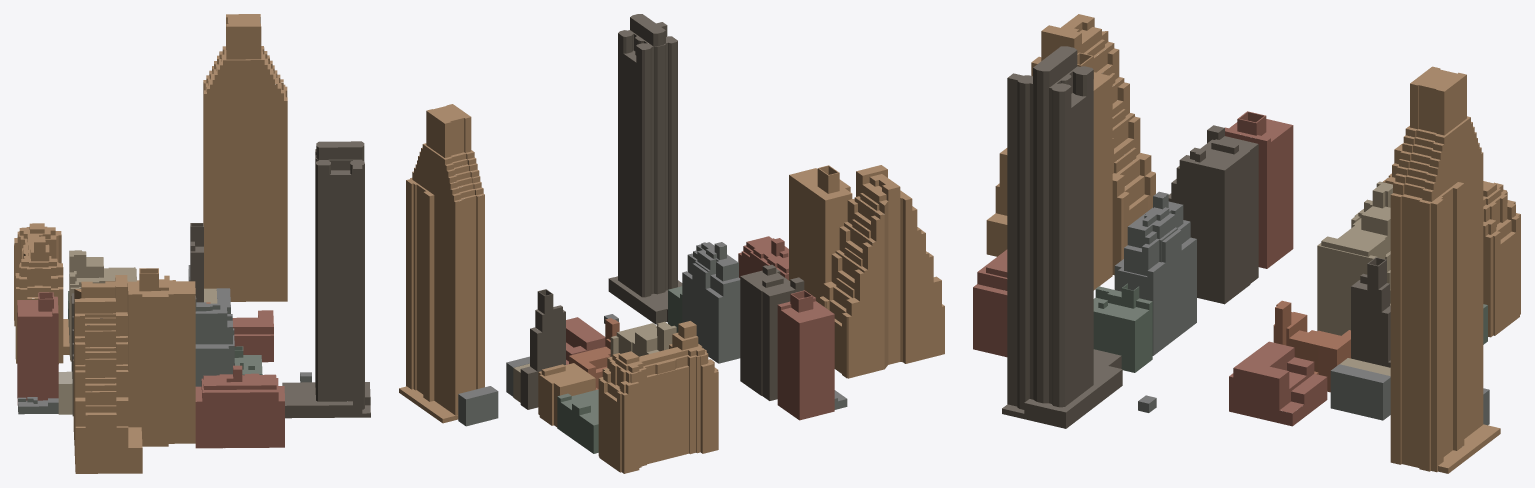
The model's file is tile-12_-13.glb.
3 views of the same model, side by side, from view 1: azimuth 30°, elevation 25°; view 2: azimuth 150°, elevation 25°; view 3: azimuth 270°, elevation 25° (orthographic). The views are drawn at different scales.
Parts seen in each view (by area): view 1: wall, roof; view 2: wall, roof; view 3: wall, roof.
Part boxes in pixels (<box>): wall: <box>14,17,370,473</box>; roof: <box>14,14,370,447</box>; wall: <box>399,17,944,473</box>; roof: <box>399,14,944,425</box>; wall: <box>973,18,1520,473</box>; roof: <box>973,14,1520,467</box>.
Size of the model in its own units: 236 by 171 by 230.
